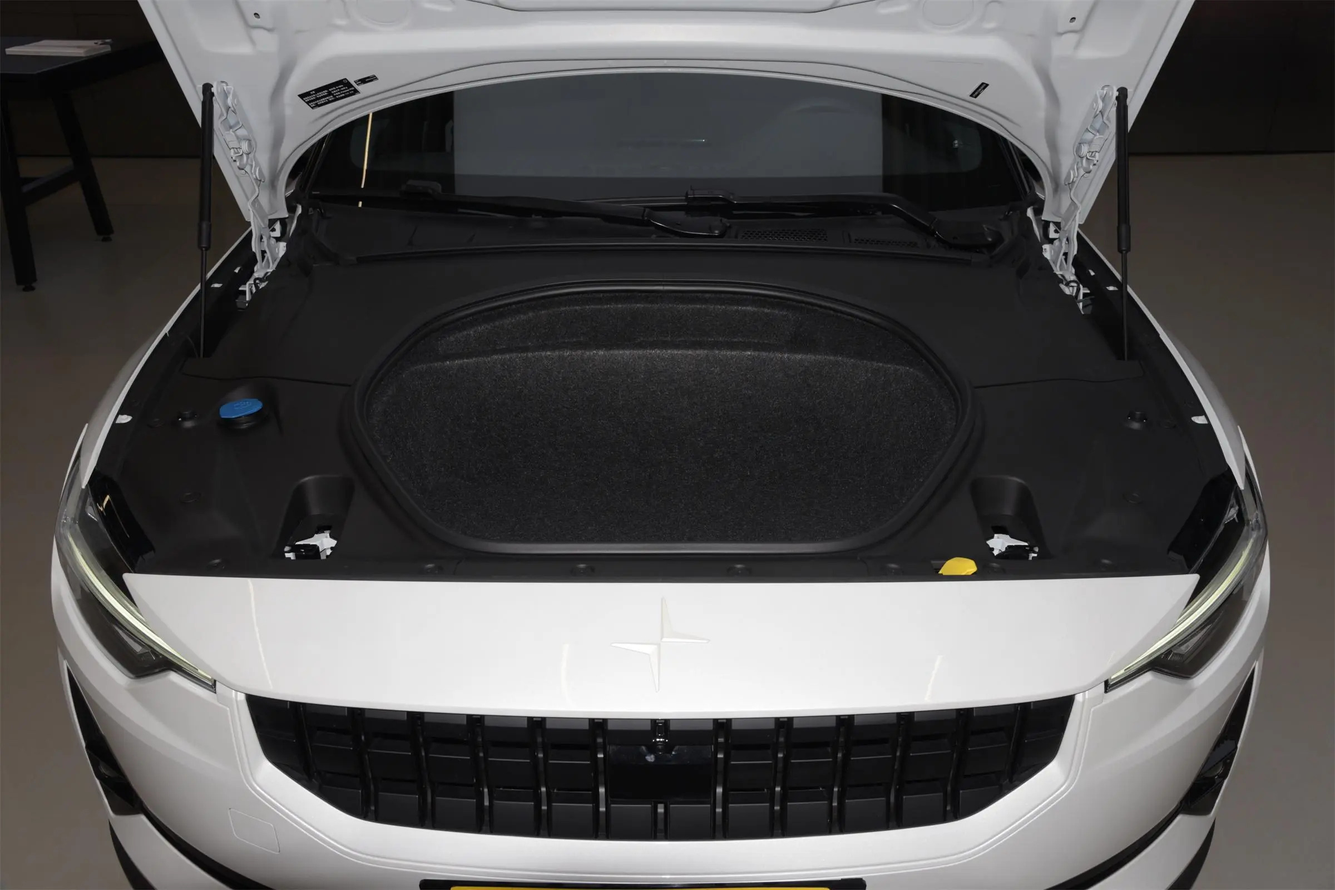Polestar: (612, 598, 709, 692)
